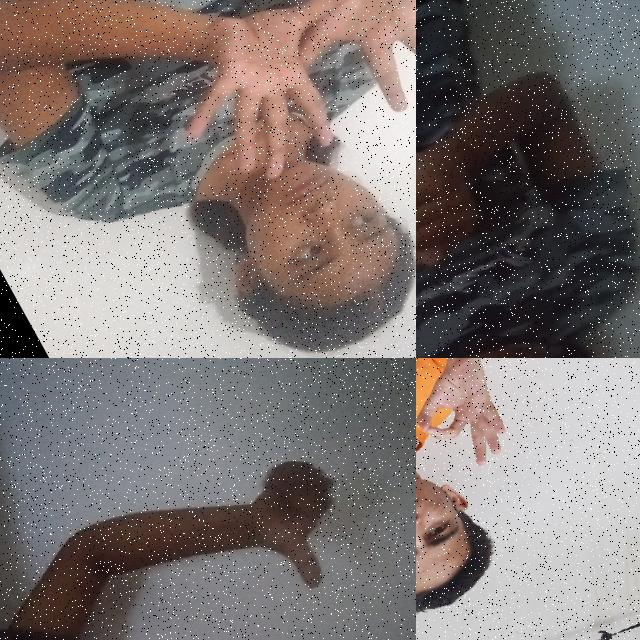Dulya: (416, 113, 515, 285)
Moutza: (135, 0, 416, 219), (252, 0, 416, 159)
Okay: (416, 358, 536, 491)
Thumbs Up: (210, 425, 394, 616)
